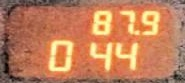-: (132, 29, 140, 34)
0: (46, 39, 72, 72)
4: (113, 40, 138, 71), (88, 40, 112, 71)
7: (118, 8, 135, 34)
8: (91, 9, 112, 34)
9: (140, 10, 159, 35)
